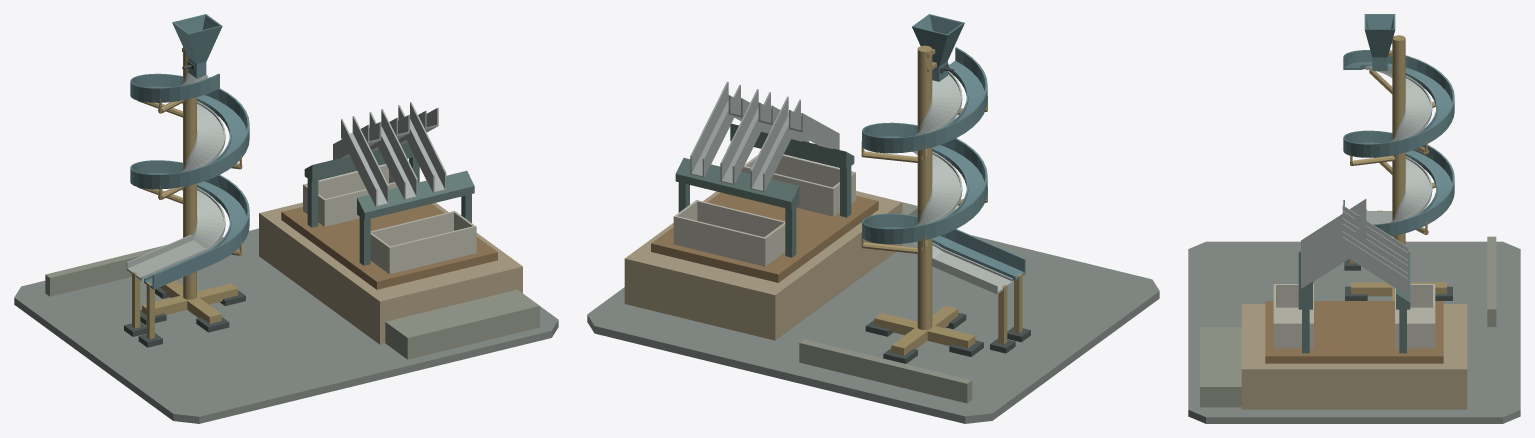
3 views of the same model, side by side, from view 1: azimuth 30°, elevation 25°; view 2: azimuth 150°, elevation 25°; view 3: azimuth 270°, elevation 25° (orthographic). The views are drawn at different scales.
Parts seen in each view (by area): view 1: WholeChamferedInspectionCourtFloor, WholeRaisedDividerPlatform, Spiral__WholeContinuousOuterCollectorSpiralAndOutlet, WholeWideFrontPlatformStep, Divider__WholeLowSampleDividerPlinth, Spiral__WholeContinuousInnerShallowSpiralAndOutlet, Divider__WholeOpenOpposedReceiverPan0, Divider__WholeOpenOpposedReceiverPan1, Divider__WholeSlopingOutletSupportBeam0, WholeLowLeftRearCourtBoundary, Spiral__WholeTallCentralSupportMast, Divider__WholeAlternatingOpenSlopingChannel0 (+9 smaller); view 2: WholeChamferedInspectionCourtFloor, WholeRaisedDividerPlatform, Spiral__WholeContinuousOuterCollectorSpiralAndOutlet, Divider__WholeLowSampleDividerPlinth, Divider__WholeOpenOpposedReceiverPan1, Spiral__WholeContinuousInnerShallowSpiralAndOutlet, WholeLowLeftRearCourtBoundary, Spiral__WholeTallCentralSupportMast, Divider__WholeOpenOpposedReceiverPan0, Divider__WholeSlopingOutletSupportBeam1, Divider__WholeAlternatingOpenSlopingChannel3, Divider__WholeAlternatingOpenSlopingChannel5 (+9 smaller); view 3: WholeChamferedInspectionCourtFloor, WholeRaisedDividerPlatform, Divider__WholeLowSampleDividerPlinth, Spiral__WholeContinuousOuterCollectorSpiralAndOutlet, Spiral__WholeContinuousInnerShallowSpiralAndOutlet, WholeWideFrontPlatformStep, Spiral__WholeTallCentralSupportMast, Divider__WholeOpenOpposedReceiverPan0, Divider__WholeOpenOpposedReceiverPan1, Divider__WholeAlternatingOpenSlopingChannel5, Spiral__WholeOpenReceivingHopperAndHollowThroat, Divider__WholeAlternatingOpenSlopingChannel4 (+10 smaller).
Boxes of the visible parts, x1,y1,x2,y2 form: WholeChamferedInspectionCourtFloor: [14, 228, 558, 423]; WholeRaisedDividerPlatform: [259, 202, 522, 344]; Spiral__WholeContinuousOuterCollectorSpiralAndOutlet: [130, 73, 249, 289]; WholeWideFrontPlatformStep: [385, 289, 539, 359]; Divider__WholeLowSampleDividerPlinth: [281, 204, 497, 289]; Spiral__WholeContinuousInnerShallowSpiralAndOutlet: [126, 72, 225, 280]; Divider__WholeOpenOpposedReceiverPan0: [370, 211, 476, 274]; Divider__WholeOpenOpposedReceiverPan1: [303, 164, 397, 226]; Divider__WholeSlopingOutletSupportBeam0: [357, 170, 474, 219]; WholeLowLeftRearCourtBoundary: [45, 245, 166, 296]; Spiral__WholeTallCentralSupportMast: [183, 47, 196, 299]; Divider__WholeAlternatingOpenSlopingChannel0: [341, 116, 389, 206]; WholeChamferedInspectionCourtFloor: [587, 235, 1159, 423]; WholeRaisedDividerPlatform: [624, 191, 902, 340]; Spiral__WholeContinuousOuterCollectorSpiralAndOutlet: [862, 47, 1025, 281]; Divider__WholeLowSampleDividerPlinth: [651, 192, 878, 282]; Divider__WholeOpenOpposedReceiverPan1: [673, 200, 785, 266]; Spiral__WholeContinuousInnerShallowSpiralAndOutlet: [912, 71, 1012, 294]; WholeLowLeftRearCourtBoundary: [799, 339, 972, 403]; Spiral__WholeTallCentralSupportMast: [917, 45, 932, 329]; Divider__WholeOpenOpposedReceiverPan0: [742, 154, 855, 216]; Divider__WholeSlopingOutletSupportBeam1: [675, 158, 799, 209]; Divider__WholeAlternatingOpenSlopingChannel3: [720, 89, 770, 184]; Divider__WholeAlternatingOpenSlopingChannel5: [690, 81, 740, 177]; WholeChamferedInspectionCourtFloor: [1188, 241, 1520, 423]; WholeRaisedDividerPlatform: [1241, 304, 1467, 409]; Divider__WholeLowSampleDividerPlinth: [1265, 301, 1443, 363]; Spiral__WholeContinuousOuterCollectorSpiralAndOutlet: [1343, 50, 1454, 236]; Spiral__WholeContinuousInnerShallowSpiralAndOutlet: [1365, 66, 1432, 224]; WholeWideFrontPlatformStep: [1200, 327, 1241, 407]; Spiral__WholeTallCentralSupportMast: [1392, 35, 1405, 245]; Divider__WholeOpenOpposedReceiverPan0: [1273, 284, 1313, 348]; Divider__WholeOpenOpposedReceiverPan1: [1395, 284, 1435, 348]; Divider__WholeAlternatingOpenSlopingChannel5: [1342, 231, 1407, 295]; Spiral__WholeOpenReceivingHopperAndHollowThroat: [1364, 14, 1395, 70]; Divider__WholeAlternatingOpenSlopingChannel4: [1301, 225, 1366, 288].
Bounding box in the file's own units: 3.5 × 2.6 × 2.8.
